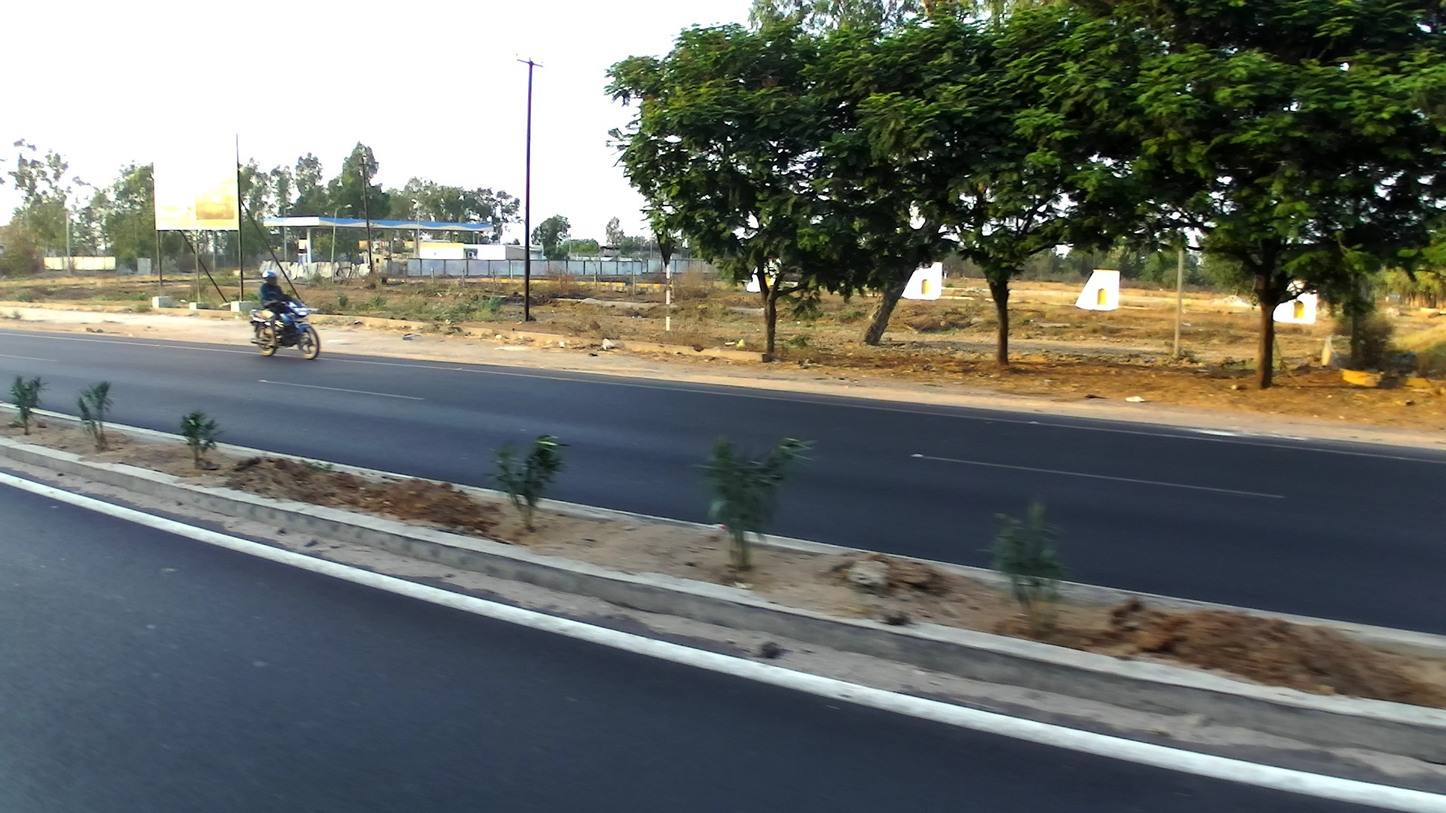motorcycle: (248, 295, 319, 362)
rider: (261, 267, 291, 354)
